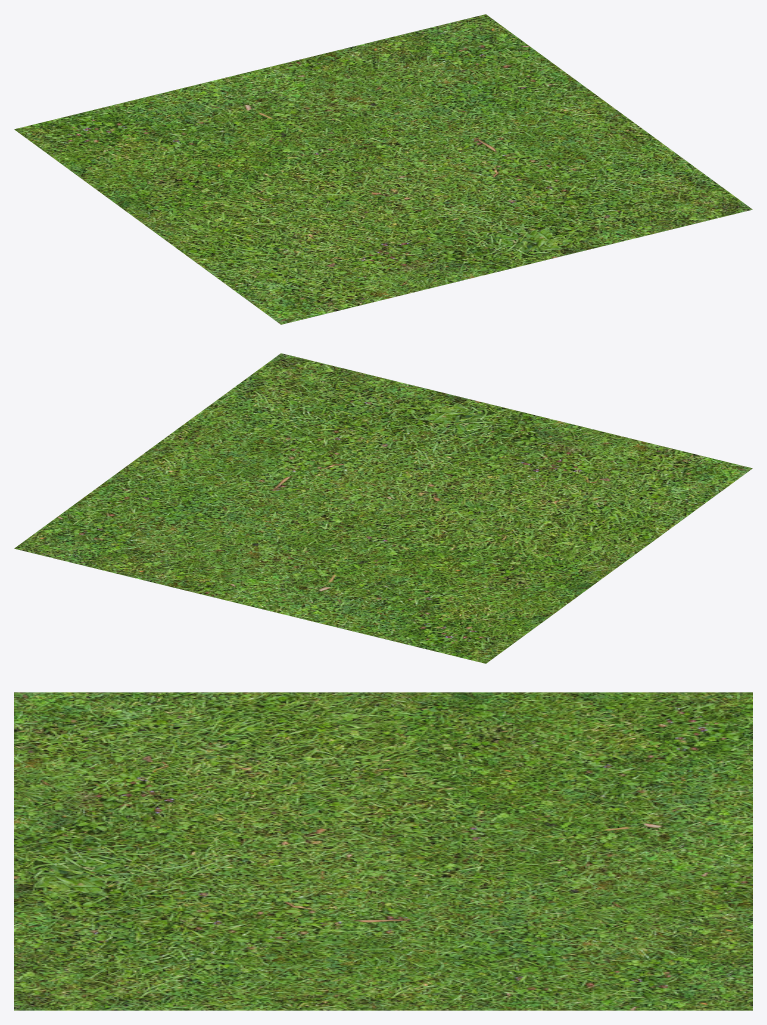
File: floor.fbx
3 views of the same model, one above another, from view 1: azimuth 30°, elevation 25°; view 2: azimuth 150°, elevation 25°; view 3: azimuth 270°, elevation 25° (orthographic). The views are drawn at different scales.
Visible parts, largest first — view 1: floor; view 2: floor; view 3: floor.
Part boxes in pixels (x1,y1,x2,y2): floor: (14,14,752,324); floor: (14,353,752,663); floor: (14,692,752,1010).
Size of the model in its own units: 0.2444 by 5.32e-17 by 0.2396.
Materials: 1 (1 with a texture image).
